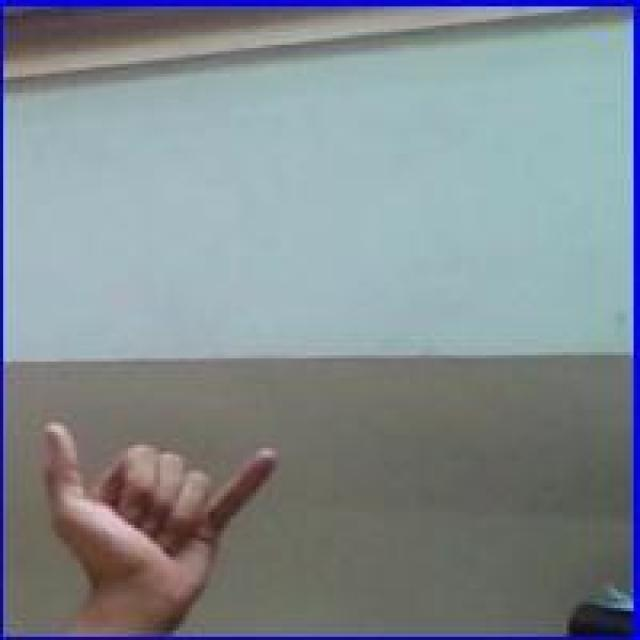Y: (30, 422, 280, 628)
